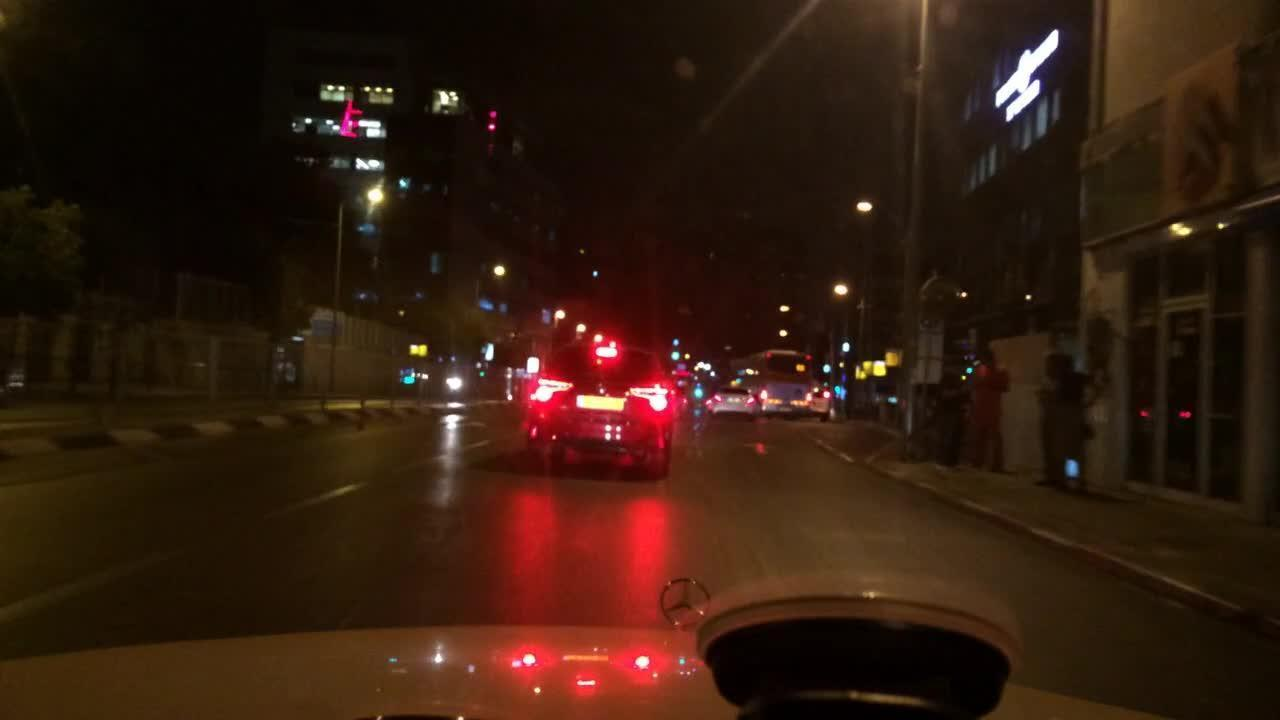Mercedes: (638, 546, 720, 641)
